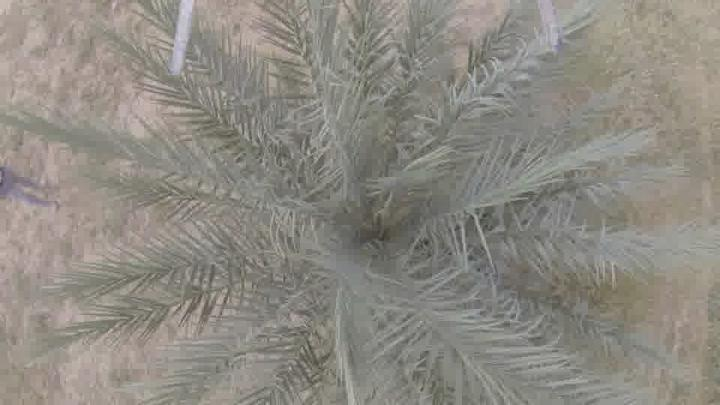Date-Palm-Crown: (158, 53, 586, 380)
